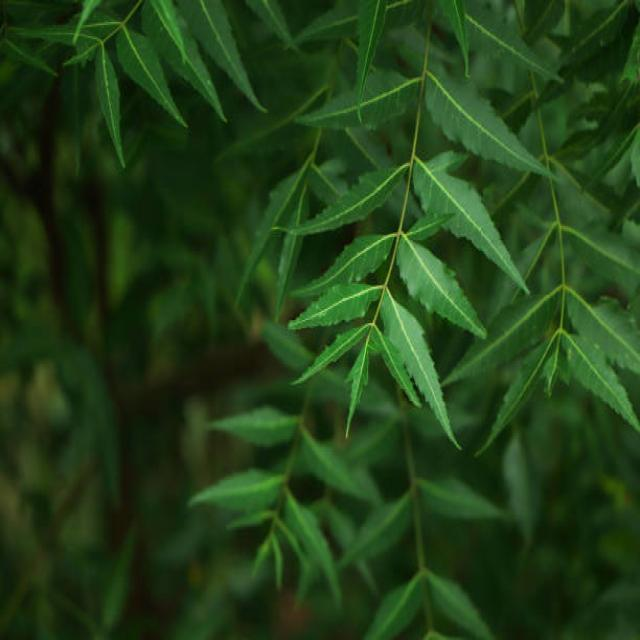Neem-Tree: (241, 129, 640, 440), (301, 0, 560, 183), (192, 407, 414, 599), (34, 0, 260, 158), (439, 2, 558, 78), (370, 570, 489, 638), (550, 225, 640, 277), (420, 481, 504, 520)
